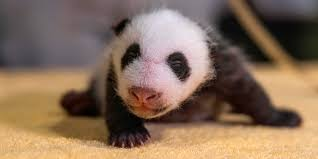panda: (60, 9, 257, 143)
